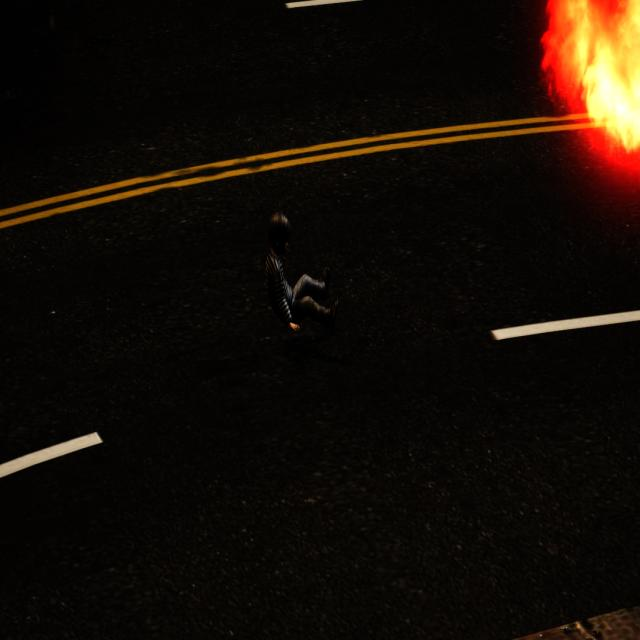Human: (255, 203, 347, 341)
